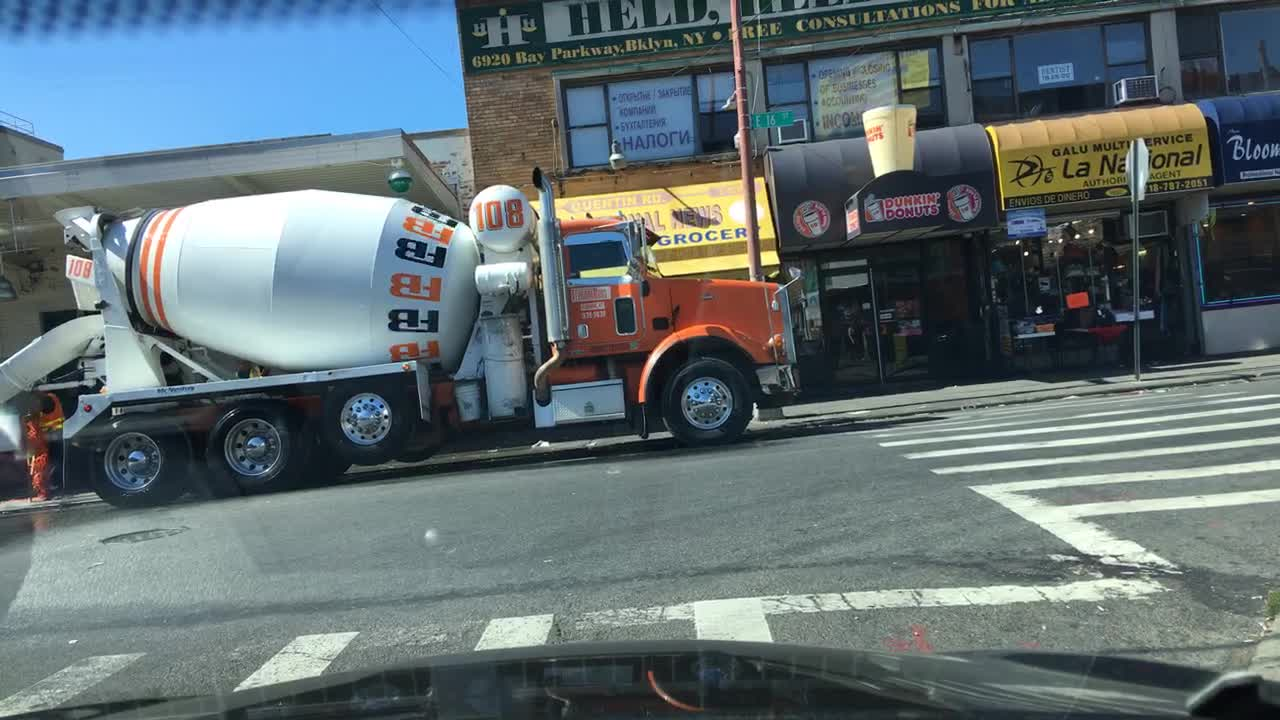person: (11, 405, 51, 505), (36, 380, 64, 501)
traffic sign: (1124, 139, 1150, 199), (751, 111, 796, 129)
truck: (0, 167, 803, 506)
